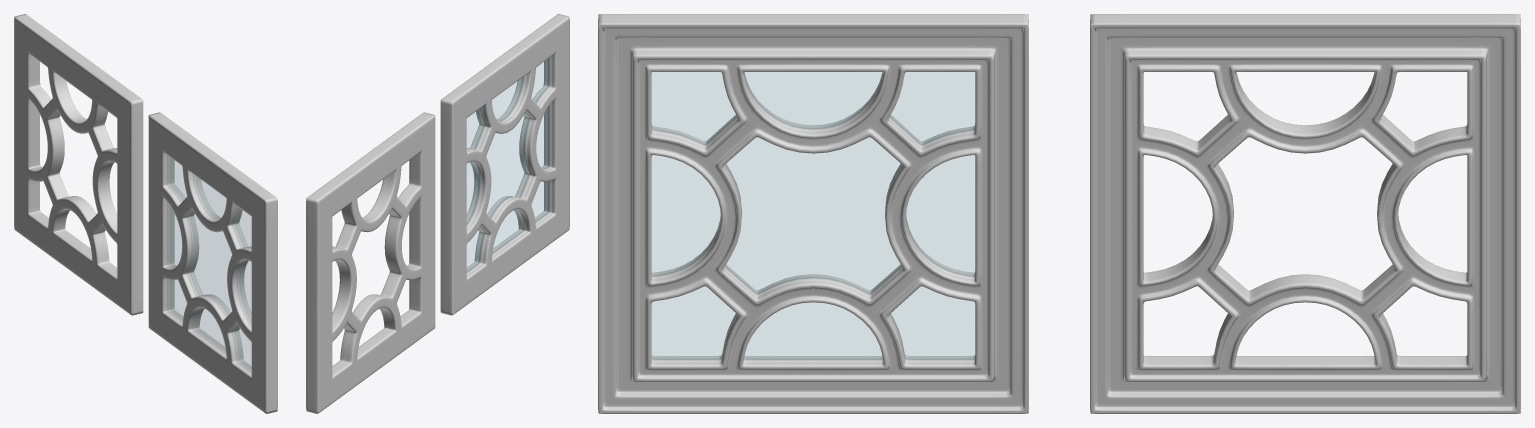
File: square_gothic_window_type2.glb
3 views of the same model, side by side, from view 1: azimuth 30°, elevation 25°; view 2: azimuth 150°, elevation 25°; view 3: azimuth 270°, elevation 25° (orthographic). The views are drawn at different scales.
Visible parts, largest first — view 1: Square_Window_02, Square_Window_02_NoGlass; view 2: Square_Window_02, Square_Window_02_NoGlass; view 3: Square_Window_02, Square_Window_02_NoGlass.
Part boxes in pixels (x1,y1,x2,y2): Square_Window_02: (148, 112, 277, 413); Square_Window_02_NoGlass: (14, 14, 143, 315); Square_Window_02: (440, 14, 569, 315); Square_Window_02_NoGlass: (306, 112, 435, 413); Square_Window_02: (598, 14, 1028, 413); Square_Window_02_NoGlass: (1090, 14, 1520, 413).
Size of the model in its own units: 0.03 by 0.5 by 1.07.
